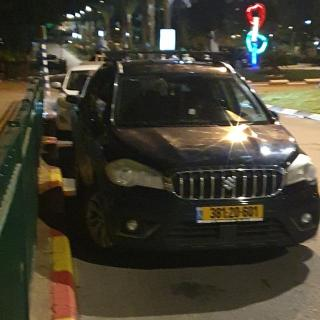LicensePlate: (202, 205, 263, 220)
